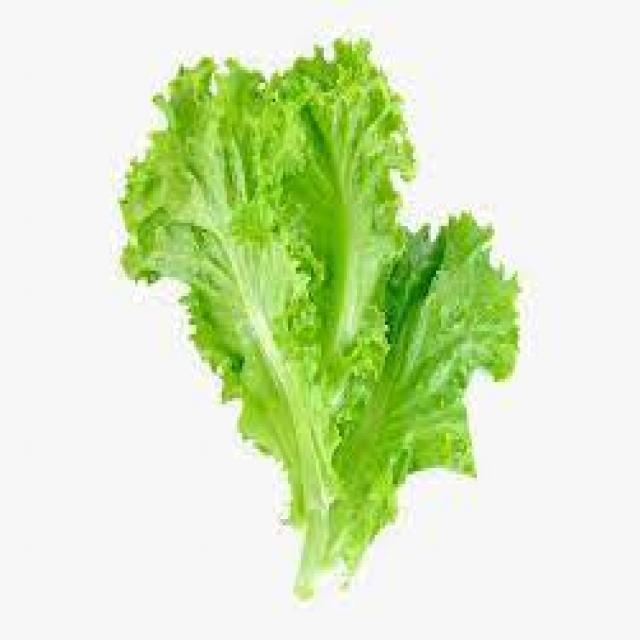Lettuce: (125, 30, 518, 595)
